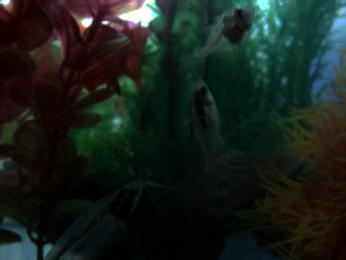X-ray fish: (189, 4, 256, 65), (184, 75, 224, 174)
glassfish: (41, 178, 146, 260)
